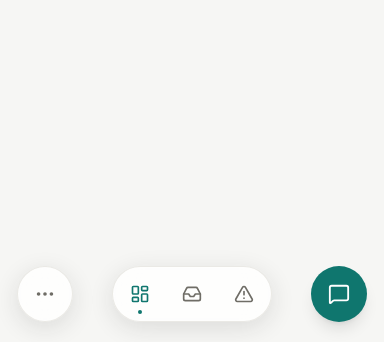
Scenario: 窄屏底部导航：气泡开合（失焦消失） › 选中二级项后气泡收起（先收回，再卸下）
Click the button titled "更多" at (45, 294), box [17,266,73,322]
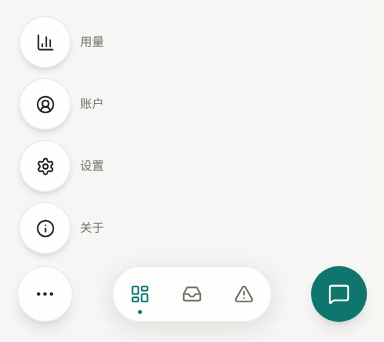
Click the button titled "关于" at (45, 228), box [19,202,71,254]
Wait 1000 ms
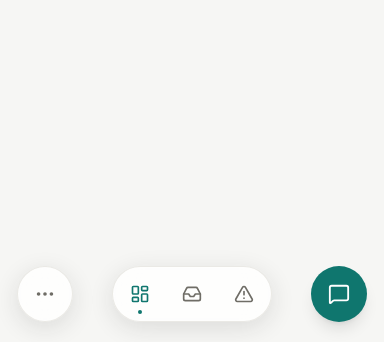
expect the button titled "用量" is gone: met
